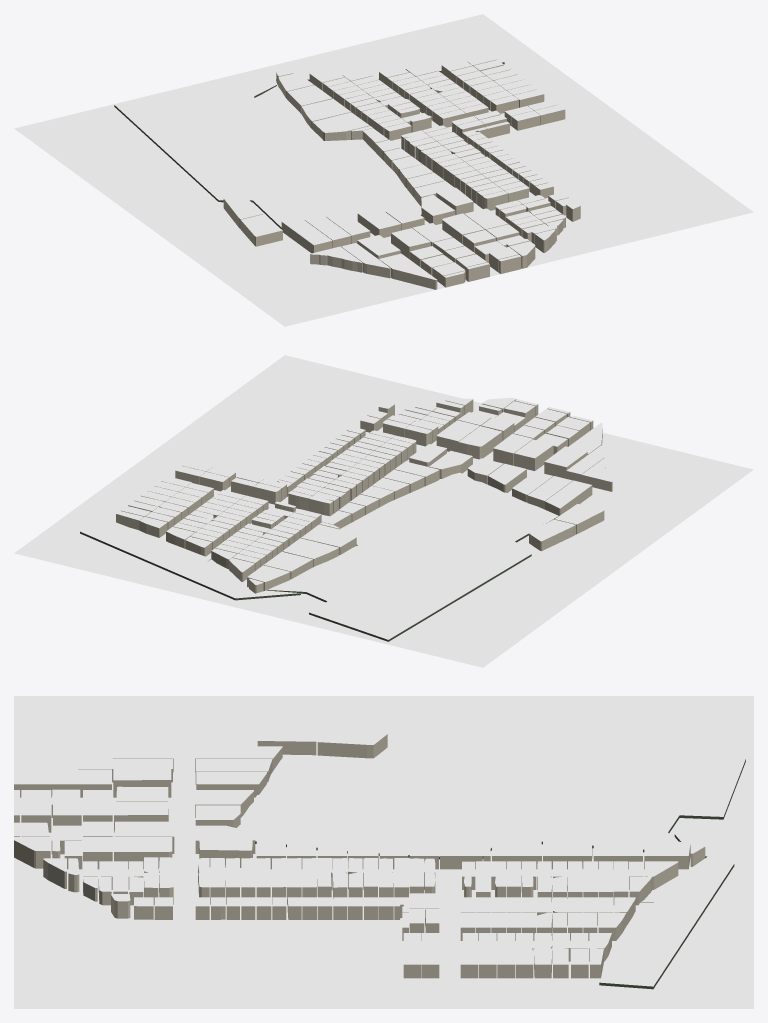
File: lucky_model.glb
The picture shows the model from 3 angles, top to bottom: view 1: azimuth 30°, elevation 25°; view 2: azimuth 150°, elevation 25°; view 3: azimuth 270°, elevation 25°; orthographic projection. The views are drawn at different scales.
Parts seen in each view (by area): view 1: plan_tops, plan_board, plan_sides; view 2: plan_tops, plan_board, plan_sides; view 3: plan_board, plan_tops, plan_sides.
Part boxes in pixels (left/top/right/bottom): plan_tops: left=115, top=46, right=580, bottom=279; plan_board: left=14, top=14, right=753, bottom=326; plan_sides: left=114, top=59, right=580, bottom=289; plan_tops: left=80, top=397, right=612, bottom=639; plan_board: left=14, top=355, right=753, bottom=667; plan_sides: left=80, top=399, right=612, bottom=641; plan_board: left=14, top=696, right=753, bottom=1008; plan_tops: left=14, top=723, right=745, bottom=986; plan_sides: left=14, top=734, right=745, bottom=989.
Bounding box in the file's own units: 1 × 0.026 × 1.
